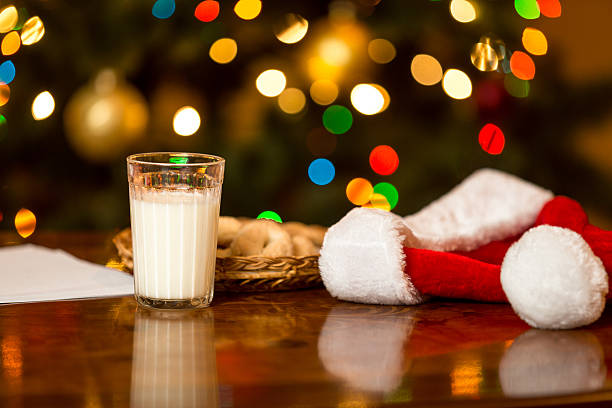glass of milk: (121, 156, 213, 301)
